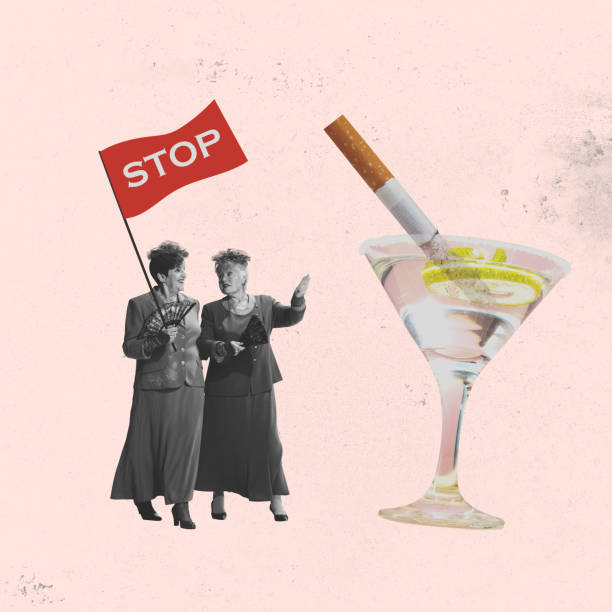alcohol: (358, 232, 571, 529)
cigarette: (320, 110, 495, 298)
